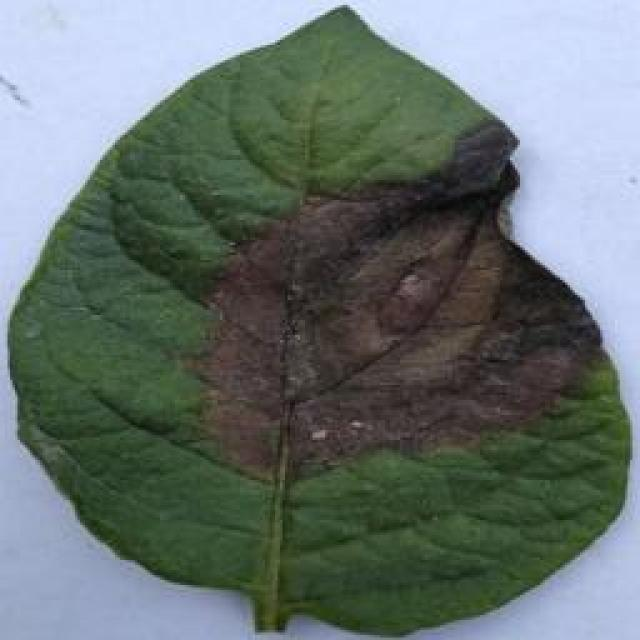Potato_Late_Blight: (1, 12, 632, 637)
